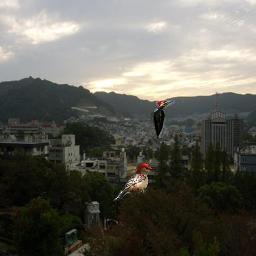Woodpecker: (113, 162, 158, 201), (151, 100, 175, 138)
